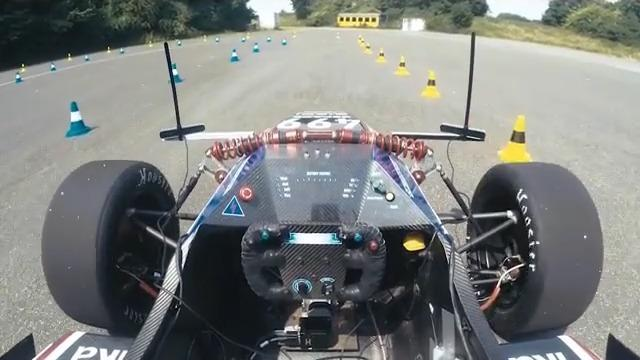blue_cone: (65, 100, 92, 138), (168, 63, 183, 83), (229, 48, 240, 62), (252, 41, 260, 53)
yellow_cone: (497, 114, 534, 168), (420, 71, 441, 98), (394, 56, 409, 76), (375, 48, 386, 63)
